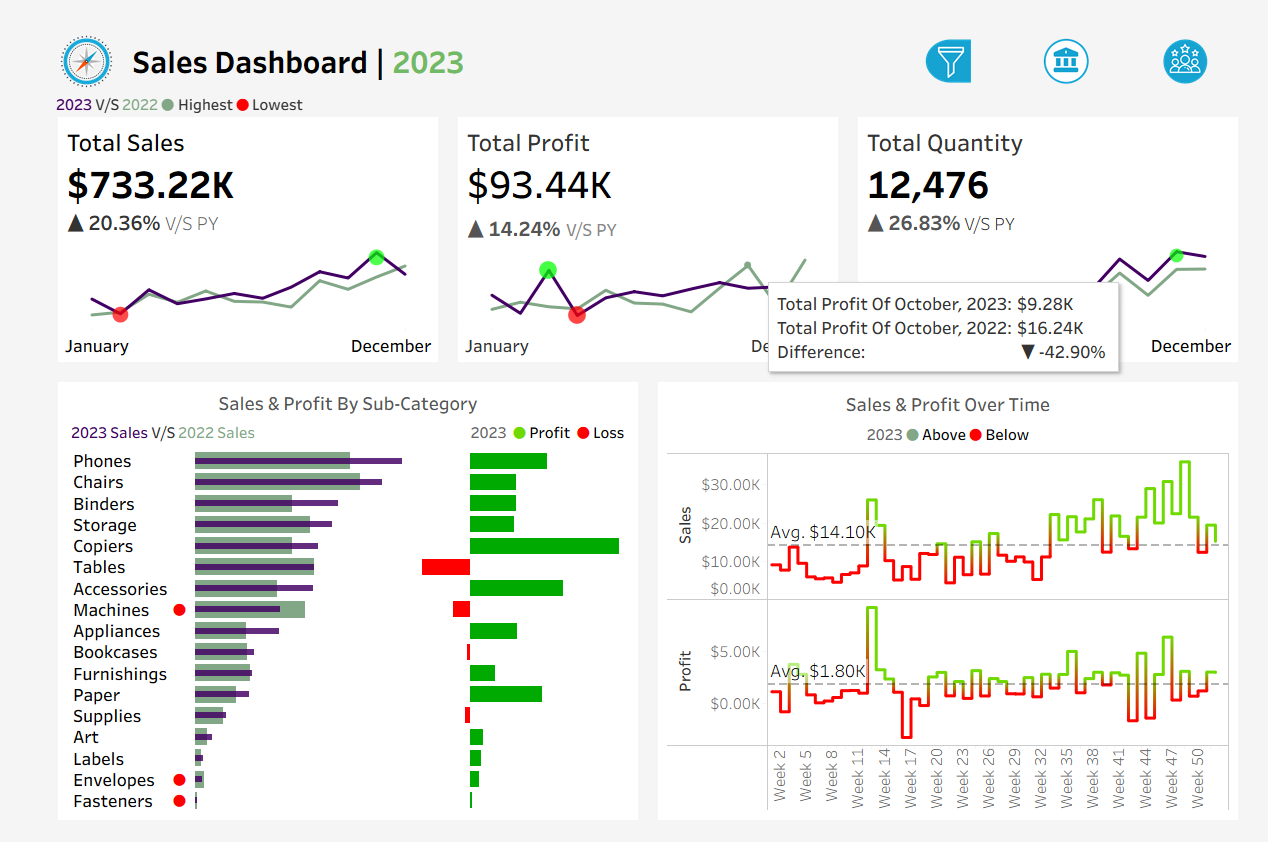

The dashboard page shown, as its layout file describes it:
{"tool":"tableau","page":{"name":"Sales Dashboard","canvas":[1200,800],"ordinal":1},"visuals":[{"type":"image","param":"Image/Icon - Logo.png","box":[0,0,77,62]},{"type":"text","box":[77,0,759,62]},{"type":"dashboard-object","box":[840,4,119,54]},{"type":"dashboard-object","box":[959,4,119,54]},{"type":"dashboard-object","box":[1078,4,118,54]},{"type":"blank","box":[946,6,245,36]},{"type":"text","box":[946,42,245,35]},{"type":"worksheet","title":"KPI Legend","mark":"Automatic","box":[0,62,1200,25]},{"type":"parameter","param":"[Parameters].[Parameter 1]","box":[946,77,245,56]},{"type":"worksheet","title":"KPI Sales","mark":"Automatic","rows":["Calculation_1230642944163847"],"cols":["Order Date"],"box":[0,87,400,255]},{"type":"worksheet","title":"KPI Profit","mark":"Automatic","rows":["Calculation_1230642966593551"],"cols":["Order Date"],"box":[400,87,400,255]},{"type":"worksheet","title":"KPI Quantity","mark":"Automatic","rows":["Calculation_0507164353552395"],"cols":["Order Date"],"box":[800,87,400,255]},{"type":"blank","box":[946,133,245,55]},{"type":"text","box":[946,188,245,35]},{"type":"filter","title":"KPI Sales","param":"[federated.1ie00hv16txxj60ziol7k1jeislt].[none:Category:nk]","box":[946,223,245,65]},{"type":"filter","title":"KPI Sales","param":"[federated.1ie00hv16txxj60ziol7k1jeislt].[none:Sub-Category:nk]","box":[946,288,245,65]},{"type":"blank","box":[946,353,245,61]},{"type":"text","box":[15,357,570,32]},{"type":"text","box":[615,357,570,33]},{"type":"worksheet","title":"Sub Category Legend","mark":"Automatic","box":[15,389,399,27]},{"type":"text","box":[414,389,171,27]},{"type":"text","box":[615,390,570,29]},{"type":"text","box":[946,414,245,35]},{"type":"worksheet","title":"Sub Catrgory Comparison","mark":"Bar","rows":["Sub-Category","Calculation_0507164362162193"],"cols":["Calculation_1230642937712644","Calculation_1230642937425923","Calculation_1230642964152332"],"box":[15,416,570,369]},{"type":"worksheet","title":"Weekly Trends","mark":"Automatic","rows":["Calculation_1230642937425923","Calculation_1230642964152332"],"cols":["Order Date"],"box":[615,419,570,366]},{"type":"filter","title":"KPI Sales","param":"[federated.1ie00hv16txxj60ziol7k1jeislt].[none:City:nk]","box":[946,449,245,65]},{"type":"filter","title":"KPI Sales","param":"[federated.1ie00hv16txxj60ziol7k1jeislt].[none:Region:nk]","box":[946,514,245,65]},{"type":"filter","title":"KPI Sales","param":"[federated.1ie00hv16txxj60ziol7k1jeislt].[none:State:nk]","box":[946,579,245,65]}]}

Visuals, with their boxes in screenshot pixels (x1, y1, x2, y2), scaled from the page's 1200x800 canvas onto the 1268x842 screenshot:
image: bbox=(0, 0, 81, 65)
text: bbox=(81, 0, 883, 65)
dashboard-object: bbox=(888, 4, 1013, 61)
dashboard-object: bbox=(1013, 4, 1139, 61)
dashboard-object: bbox=(1139, 4, 1264, 61)
blank: bbox=(1000, 6, 1258, 44)
text: bbox=(1000, 44, 1258, 81)
"KPI Legend" worksheet: bbox=(0, 65, 1267, 92)
parameter: bbox=(1000, 81, 1258, 140)
"KPI Sales" worksheet: bbox=(0, 92, 423, 360)
"KPI Profit" worksheet: bbox=(423, 92, 845, 360)
"KPI Quantity" worksheet: bbox=(845, 92, 1267, 360)
blank: bbox=(1000, 140, 1258, 198)
text: bbox=(1000, 198, 1258, 235)
"KPI Sales" filter: bbox=(1000, 235, 1258, 303)
"KPI Sales" filter: bbox=(1000, 303, 1258, 372)
blank: bbox=(1000, 372, 1258, 436)
text: bbox=(16, 376, 618, 409)
text: bbox=(650, 376, 1252, 410)
"Sub Category Legend" worksheet: bbox=(16, 409, 437, 438)
text: bbox=(437, 409, 618, 438)
text: bbox=(650, 410, 1252, 441)
text: bbox=(1000, 436, 1258, 473)
"Sub Catrgory Comparison" worksheet (Bar marks): bbox=(16, 438, 618, 826)
"Weekly Trends" worksheet: bbox=(650, 441, 1252, 826)
"KPI Sales" filter: bbox=(1000, 473, 1258, 541)
"KPI Sales" filter: bbox=(1000, 541, 1258, 609)
"KPI Sales" filter: bbox=(1000, 609, 1258, 678)
